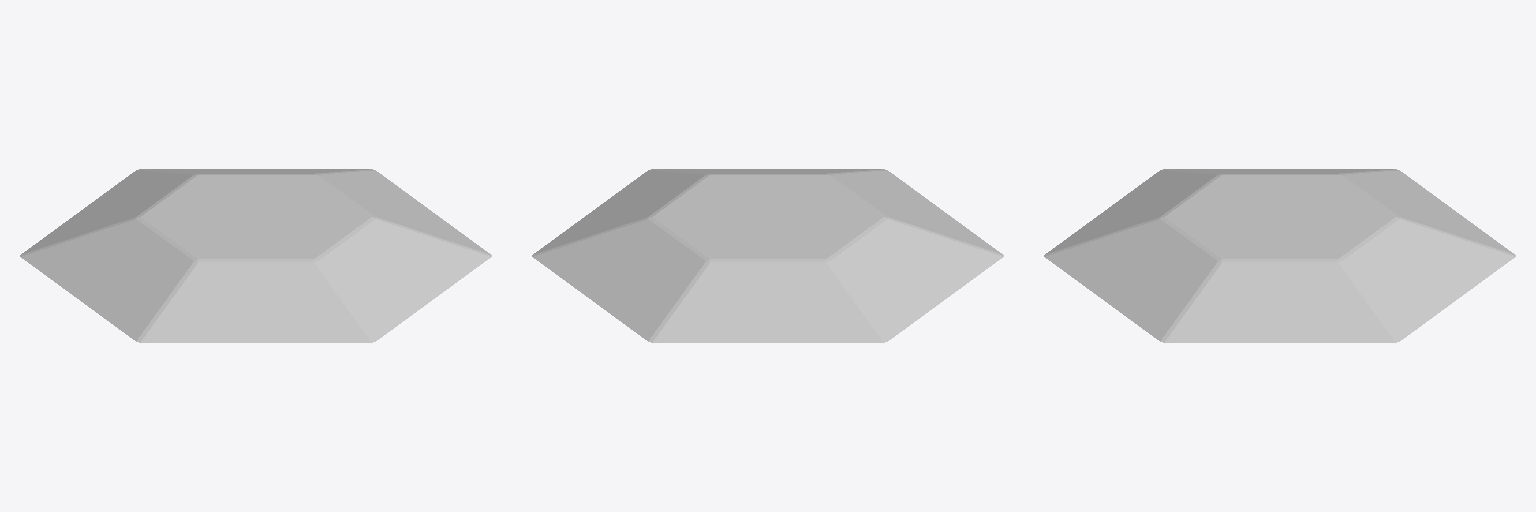
The model's file is gem-6.obj.
The picture shows the model from 3 angles: view 1: azimuth 30°, elevation 25°; view 2: azimuth 150°, elevation 25°; view 3: azimuth 270°, elevation 25°; orthographic projection.
Visible parts, largest first — view 1: gem_Cylinder; view 2: gem_Cylinder; view 3: gem_Cylinder.
Part boxes in pixels (x1,y1,x2,y2): gem_Cylinder: (20, 169, 491, 342); gem_Cylinder: (532, 169, 1003, 342); gem_Cylinder: (1044, 169, 1515, 342).
Bounding box in the file's own units: 16.47 × 3.44 × 18.91.